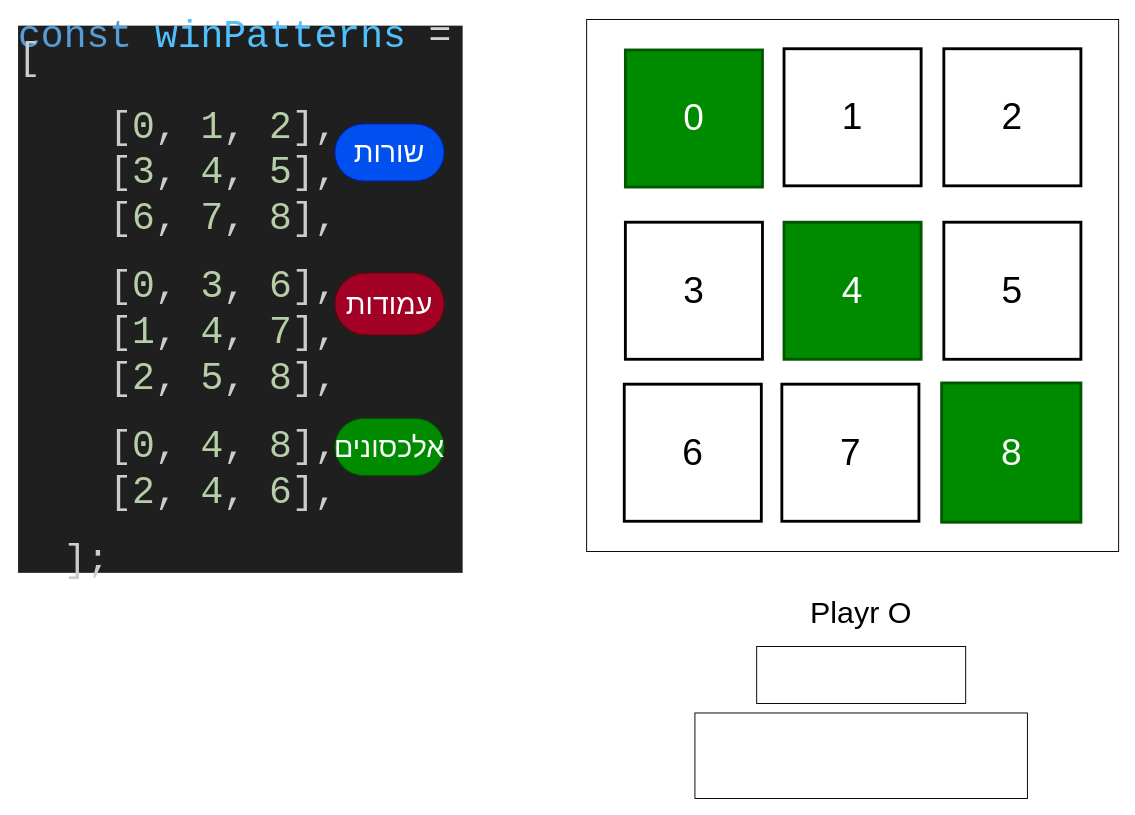
The diagram is 1135 pixels wide and 815 high, and some of its shapes have lost their labels. Each missing label, with the box of its shape:
NEW GAME: (756, 646, 966, 703)
xWin: 1 oWin: 3: (694, 712, 1027, 798)
